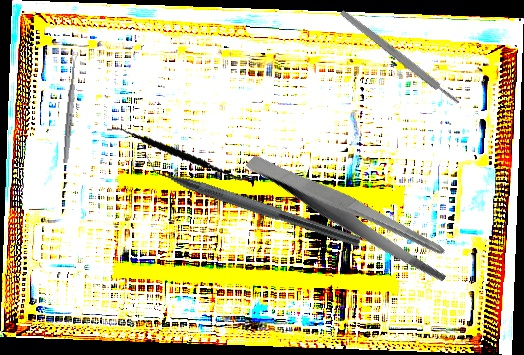Chopper: (133, 148, 368, 248)
Dressing Forceps: (245, 109, 459, 320)
Scalpel Handle: (338, 8, 462, 107)
Spatula Surgical: (106, 101, 253, 204)
Surgical Spoon: (62, 51, 79, 164)
